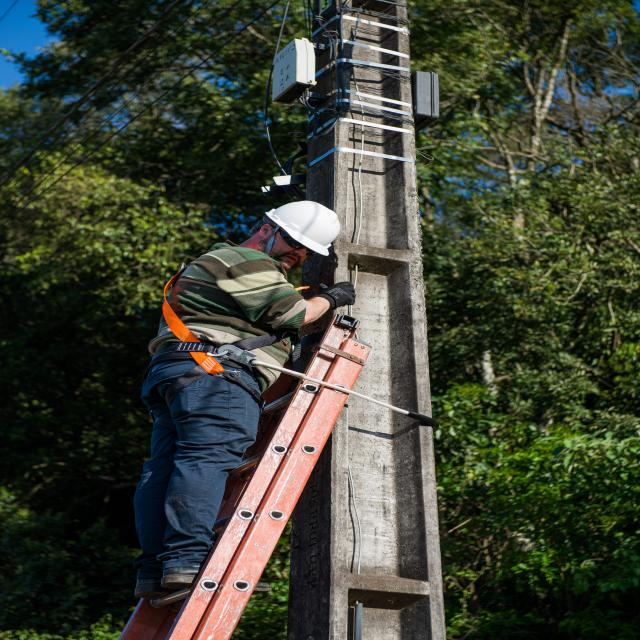capacete: (259, 200, 343, 259)
luva: (313, 279, 356, 312)
